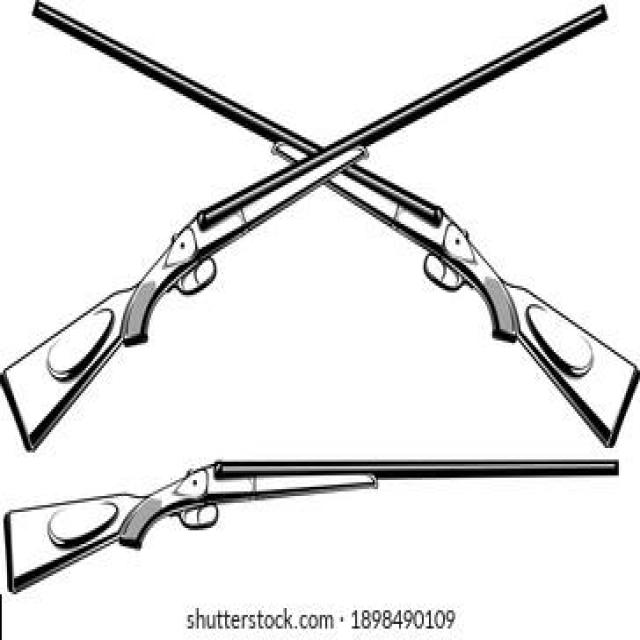weapon: (5, 2, 614, 448), (1, 455, 628, 603)
